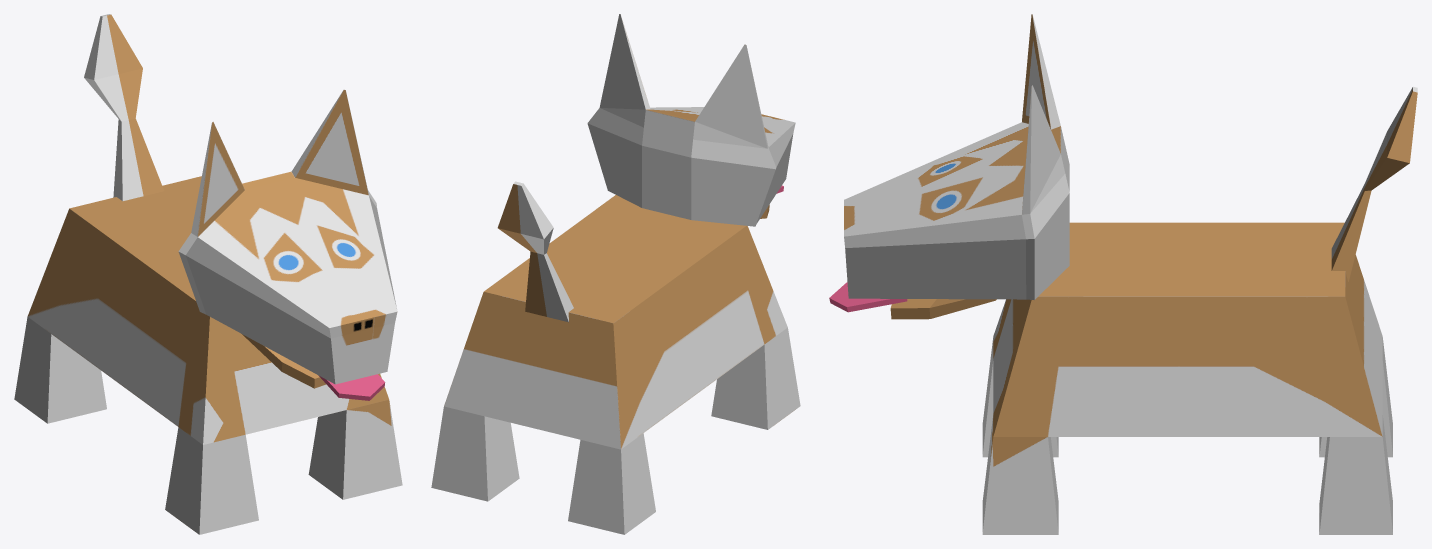
Rendered from HuskyBrown.fbx.
The picture shows the model from 3 angles, left to right: view 1: azimuth 30°, elevation 25°; view 2: azimuth 150°, elevation 25°; view 3: azimuth 270°, elevation 25°; orthographic projection. The views are drawn at different scales.
Visible parts, largest first — view 1: Head.005, Body, FrontRight.001, FrontLeft.001, Tail.001, RearRight.001, Tongue.001, Jaw.001; view 2: Body, Head.005, RearRight.001, RearLeft.001, FrontRight.001, Tail.001; view 3: Body, Head.005, FrontLeft.001, RearLeft.001, Tail.001, Jaw.001, FrontRight.001, RearRight.001, Tongue.001.
Part boxes in pixels (x1,y1,x2,y2): Head.005: (178,89,397,384); Body: (27,176,388,444); FrontRight.001: (165,427,258,534); FrontLeft.001: (308,400,402,499); Tail.001: (84,14,164,201); RearRight.001: (14,316,106,423); Tongue.001: (318,374,385,400); Jaw.001: (242,334,326,388); Body: (444,195,787,449); Head.005: (587,14,795,226); RearRight.001: (568,433,655,534); RearLeft.001: (431,406,519,501); FrontRight.001: (711,327,800,429); Tail.001: (497,181,573,322); Body: (993,222,1382,436); Head.005: (844,14,1069,299); FrontLeft.001: (982,415,1058,534); RearLeft.001: (1319,415,1392,534); Tail.001: (1331,86,1417,281); Jaw.001: (890,299,996,319); FrontRight.001: (982,338,1058,457); RearRight.001: (1319,337,1392,457); Tongue.001: (829,282,907,312).
Size of the model in its own units: 163 by 298 by 369.
